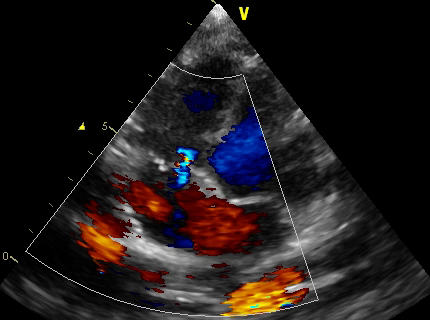TR: (143, 148, 200, 188)
